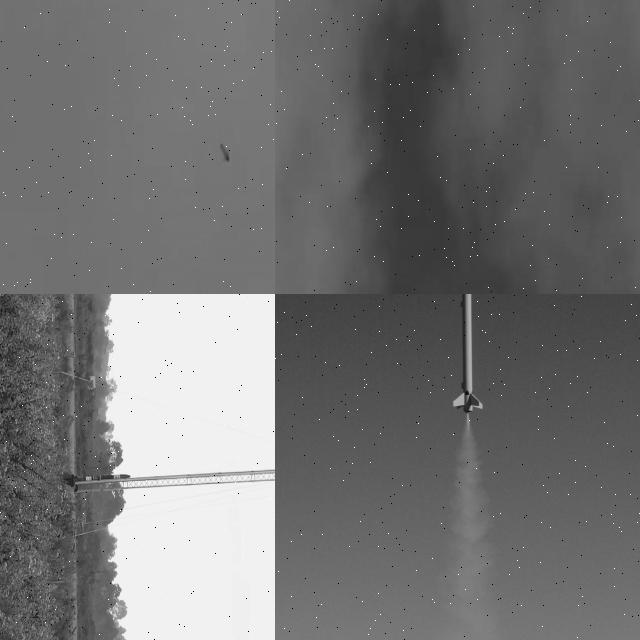Rocket: (451, 294, 484, 413), (76, 473, 130, 482), (220, 142, 230, 163)
